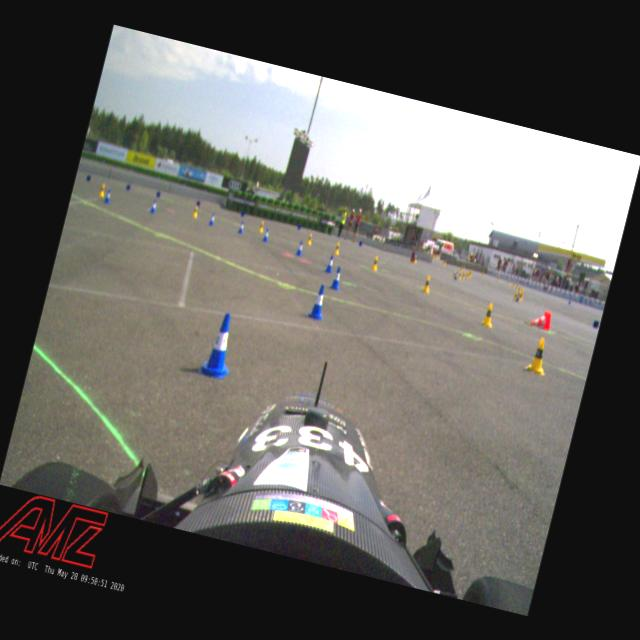blue_cone: (196, 310, 242, 380), (306, 282, 331, 321), (329, 264, 345, 291), (323, 253, 336, 273), (294, 239, 305, 256), (148, 198, 158, 214), (102, 189, 112, 204), (237, 220, 246, 234), (262, 228, 270, 242), (208, 212, 216, 226), (514, 292, 520, 302)
orange_cone: (528, 308, 552, 332)
yellow_cone: (524, 334, 552, 376), (480, 300, 498, 328), (420, 274, 432, 294), (370, 254, 380, 272), (332, 240, 342, 256), (190, 204, 200, 218), (98, 182, 106, 197), (257, 220, 265, 233), (305, 232, 313, 245), (512, 291, 518, 301)
